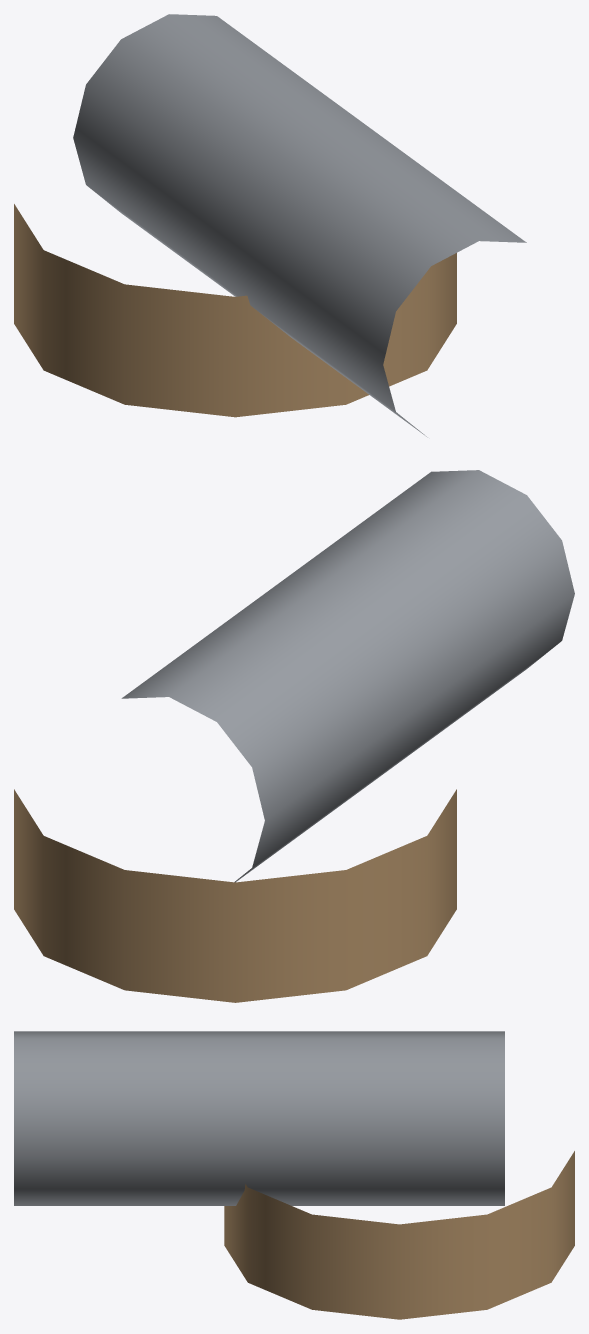
The model's file is cannon.glb.
3 renders of one model, top to bottom at view 1: azimuth 30°, elevation 25°; view 2: azimuth 150°, elevation 25°; view 3: azimuth 270°, elevation 25°, orthographic. The views are drawn at different scales.
Visible parts, largest first — view 1: cannon_root; view 2: cannon_root; view 3: cannon_root.
Boxes of the visible parts, bbox=[...] form: cannon_root: bbox=[14, 14, 526, 437]; cannon_root: bbox=[14, 470, 574, 1002]; cannon_root: bbox=[14, 1031, 574, 1319].
Bounding box in the file's own units: 10 × 6.5 × 16.
